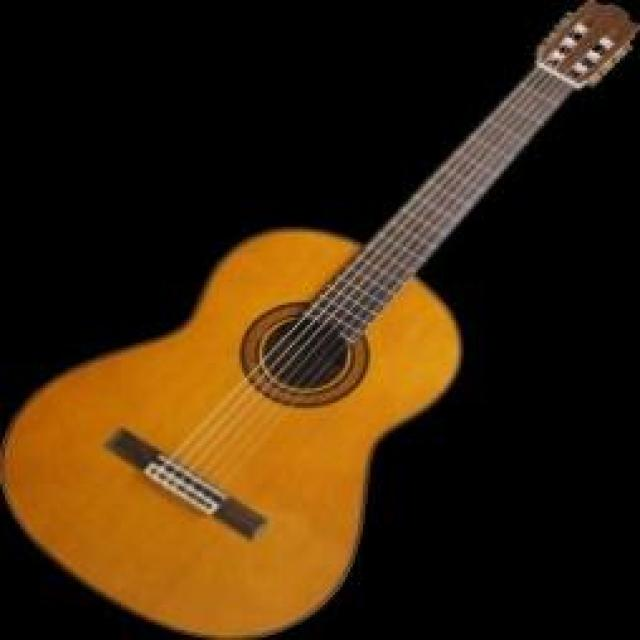acousticguitar: (5, 0, 637, 637)
